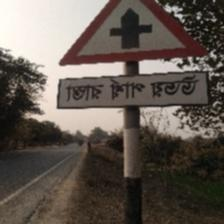Animal: (51, 0, 219, 120)
